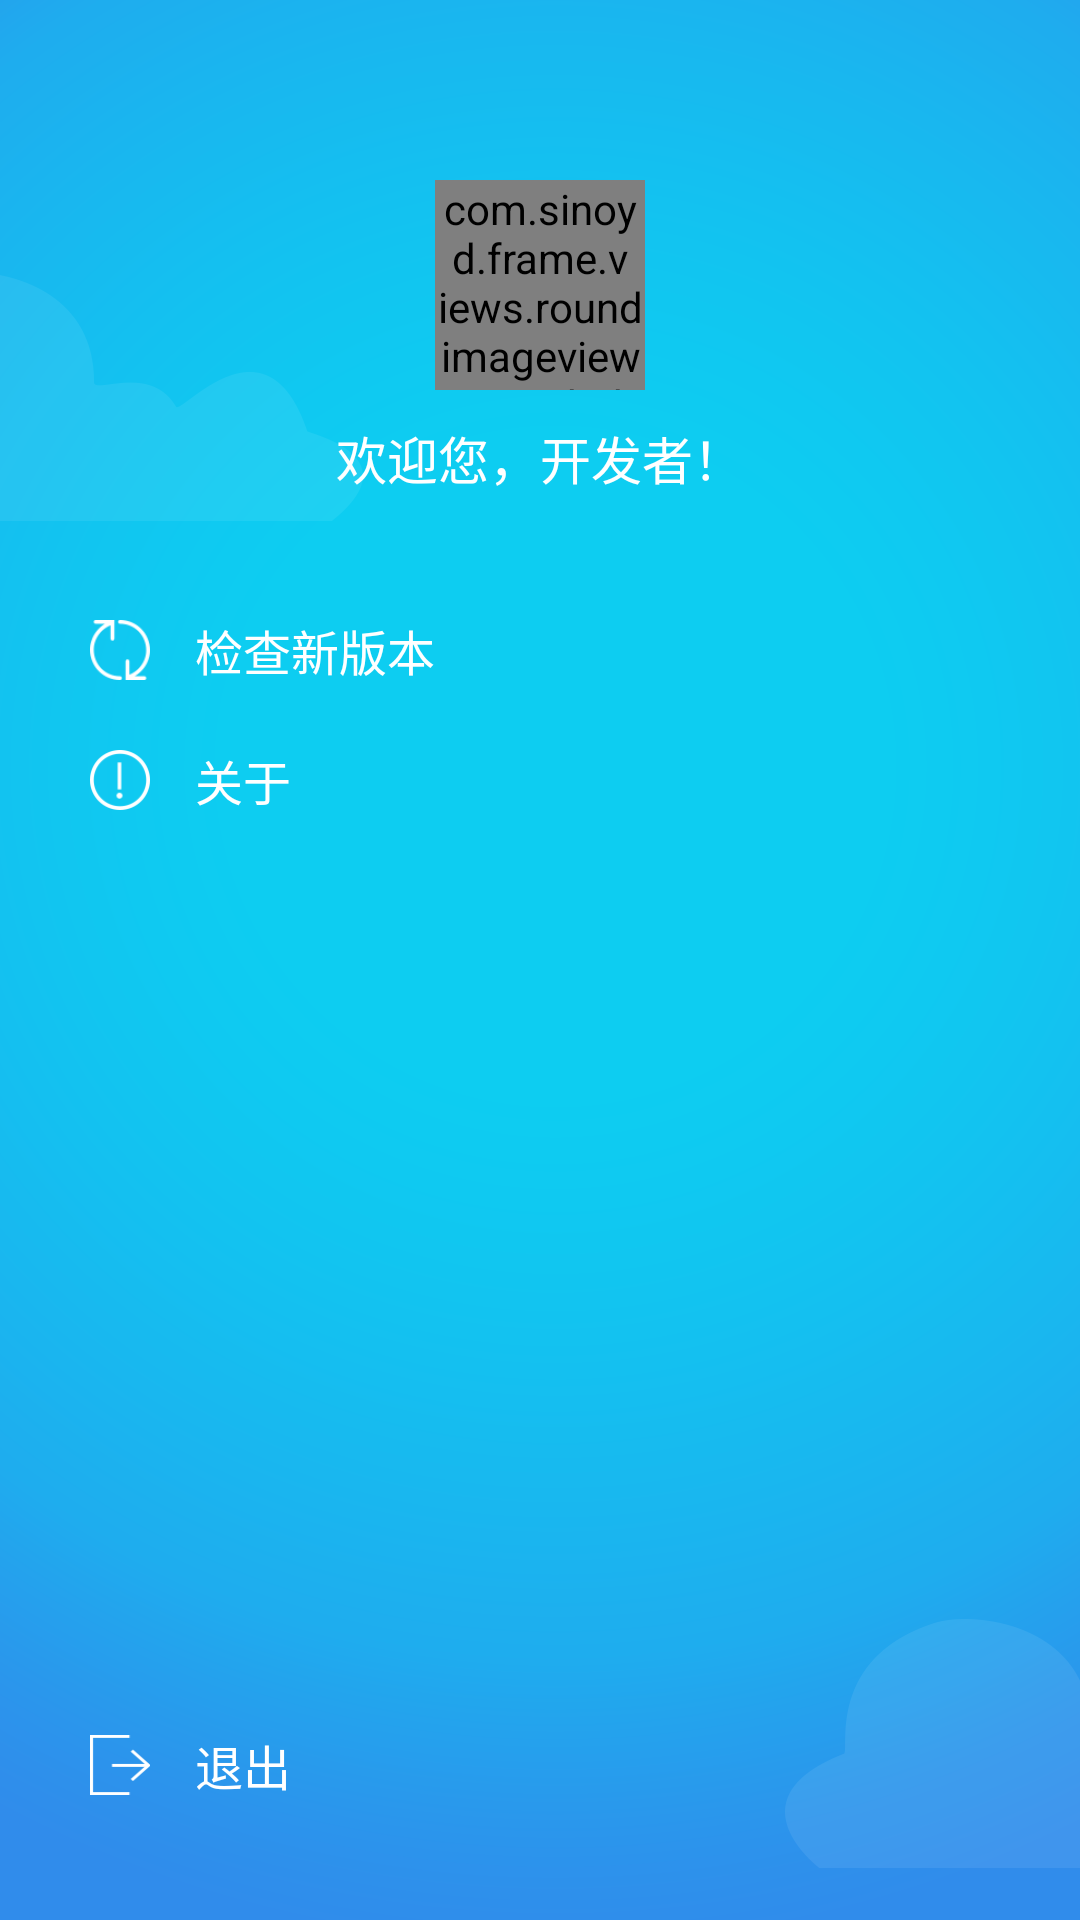

Where to tap for icons on this 1080px×1920px app screen, as (x,y):
about: (120,780)
exit: (120,1765)
version: (120,650)
